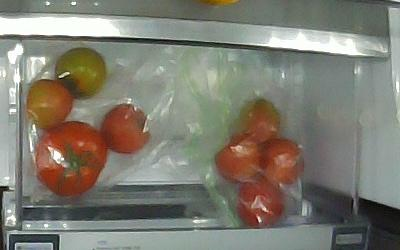tomato_vinyl: (37, 121, 108, 196), (55, 48, 108, 99), (102, 104, 151, 154), (238, 178, 286, 228), (26, 78, 71, 128), (212, 135, 262, 180), (260, 139, 304, 183), (240, 98, 283, 140)
